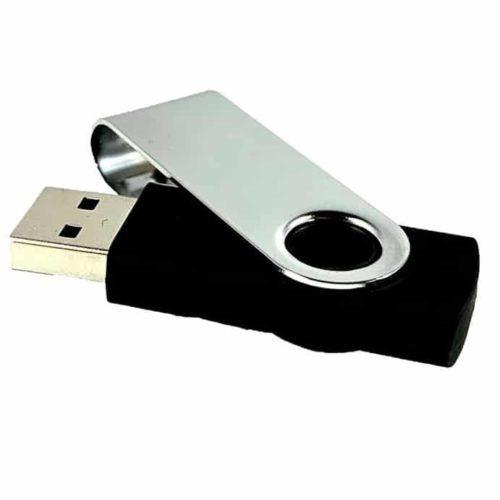USB Flash Drive: (9, 90, 481, 369)
